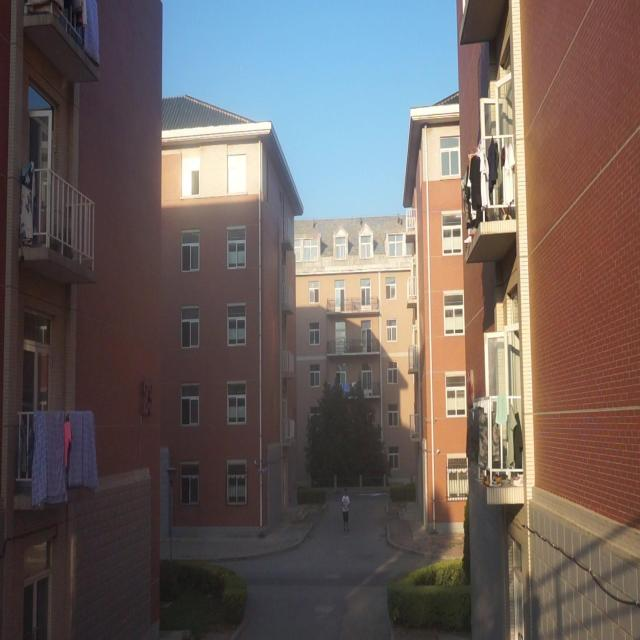UAV: (257, 467, 268, 474)
